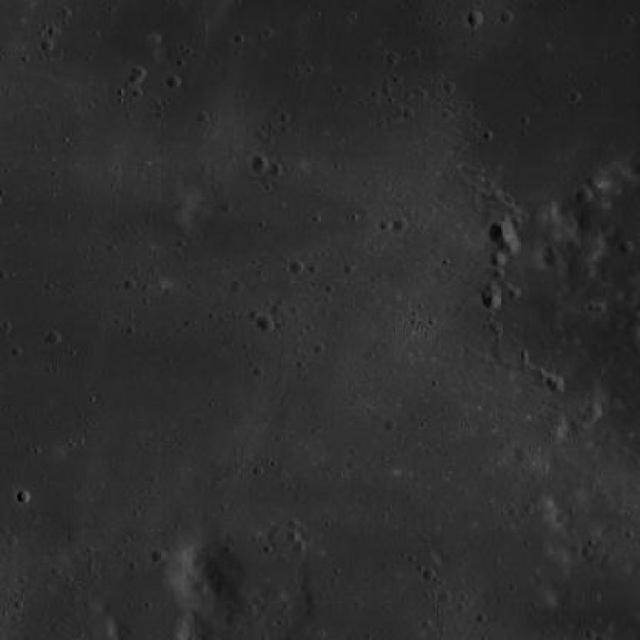crater: (488, 222, 514, 246), (499, 236, 521, 258), (481, 293, 501, 312), (252, 158, 271, 176), (546, 377, 563, 394), (489, 252, 506, 268), (588, 174, 604, 191), (544, 251, 561, 267), (576, 188, 592, 204), (391, 214, 406, 230), (467, 14, 482, 28)
